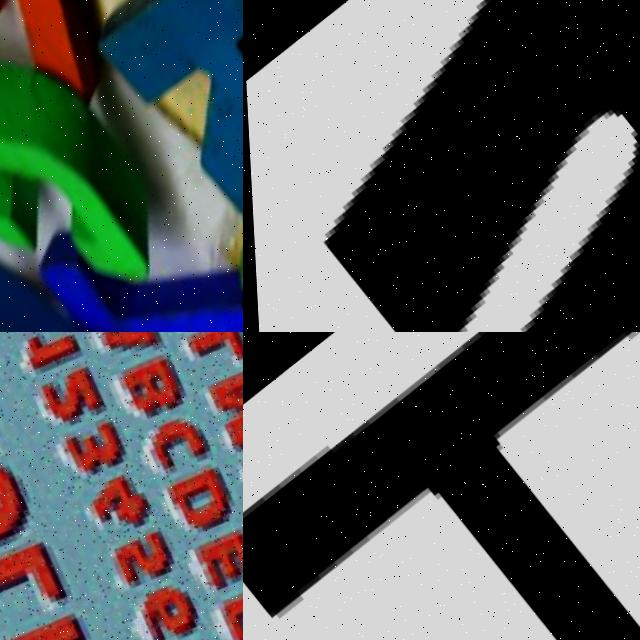1: (9, 332, 81, 386)
2: (22, 355, 111, 441)
3: (44, 408, 136, 495)
4: (66, 458, 167, 556)
5: (93, 519, 186, 608)
6: (120, 571, 209, 640)
C: (0, 0, 190, 332)
E: (0, 0, 146, 194)
H: (243, 332, 640, 640)
K: (72, 0, 243, 275)
T: (24, 177, 243, 332)
U: (243, 0, 640, 332)
V: (0, 209, 172, 332)
